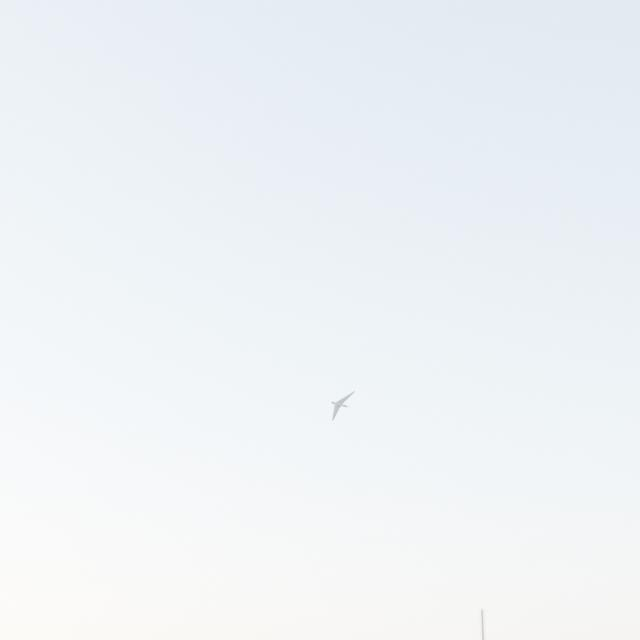Airaplan: (331, 390, 355, 421)
